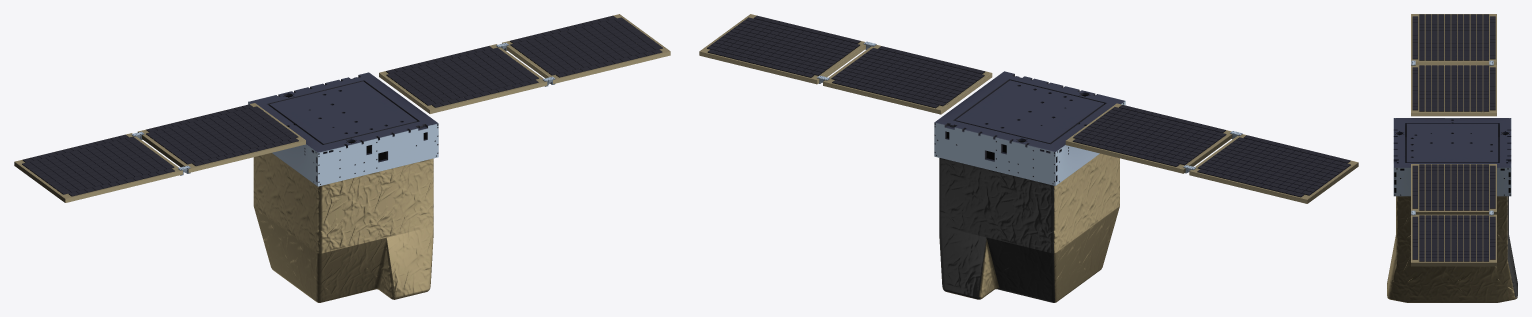
The model's file is base_satellite_low.glb.
3 views of the same model, side by side, from view 1: azimuth 30°, elevation 25°; view 2: azimuth 150°, elevation 25°; view 3: azimuth 270°, elevation 25° (orthographic). The views are drawn at different scales.
Visible parts, largest first — view 1: Cube.031, Cube.033, Cube.029, Cube.036, Cube.028, Cube.030, Cube.038, Cube.035, Cube.034, Cube.037; view 2: Cube.031, Cube.033, Cube.029, Cube.036, Cube.030, Cube.028, Cube.037, Cube.034, Cube.035, Cube.038; view 3: Cube.031, Cube.033, Cube.029, Cube.036, Cube.028, Cube.030, Cube.034, Cube.037, Cube.035, Cube.038, Cube.032.
Boxes of the visible parts, bbox=[...] form: Cube.031: bbox=[253, 153, 433, 302]; Cube.033: bbox=[248, 72, 438, 186]; Cube.029: bbox=[22, 17, 662, 194]; Cube.036: bbox=[146, 47, 538, 164]; Cube.028: bbox=[14, 14, 670, 202]; Cube.030: bbox=[137, 44, 547, 172]; Cube.038: bbox=[192, 79, 538, 166]; Cube.035: bbox=[68, 49, 662, 196]; Cube.034: bbox=[22, 15, 616, 162]; Cube.037: bbox=[146, 46, 492, 132]; Cube.031: bbox=[939, 153, 1119, 302]; Cube.033: bbox=[934, 71, 1125, 185]; Cube.029: bbox=[707, 17, 1350, 195]; Cube.036: bbox=[831, 48, 1226, 165]; Cube.030: bbox=[823, 44, 1232, 173]; Cube.028: bbox=[699, 14, 1358, 203]; Cube.037: bbox=[832, 80, 1179, 166]; Cube.034: bbox=[707, 49, 1304, 197]; Cube.035: bbox=[753, 15, 1350, 163]; Cube.038: bbox=[878, 46, 1225, 132]; Cube.031: bbox=[1387, 196, 1517, 302]; Cube.033: bbox=[1393, 118, 1511, 196]; Cube.029: bbox=[1419, 14, 1488, 261]; Cube.036: bbox=[1419, 65, 1488, 210]; Cube.028: bbox=[1411, 14, 1496, 266]; Cube.030: bbox=[1411, 64, 1496, 214]; Cube.034: bbox=[1490, 16, 1495, 259]; Cube.037: bbox=[1490, 67, 1495, 208]; Cube.035: bbox=[1412, 16, 1417, 259]; Cube.038: bbox=[1412, 67, 1417, 208]; Cube.032: bbox=[1411, 60, 1493, 215].
Bounding box in the file's own units: 0.9614 × 0.2573 × 0.2134.
Materials: 1 (1 with a texture image).
